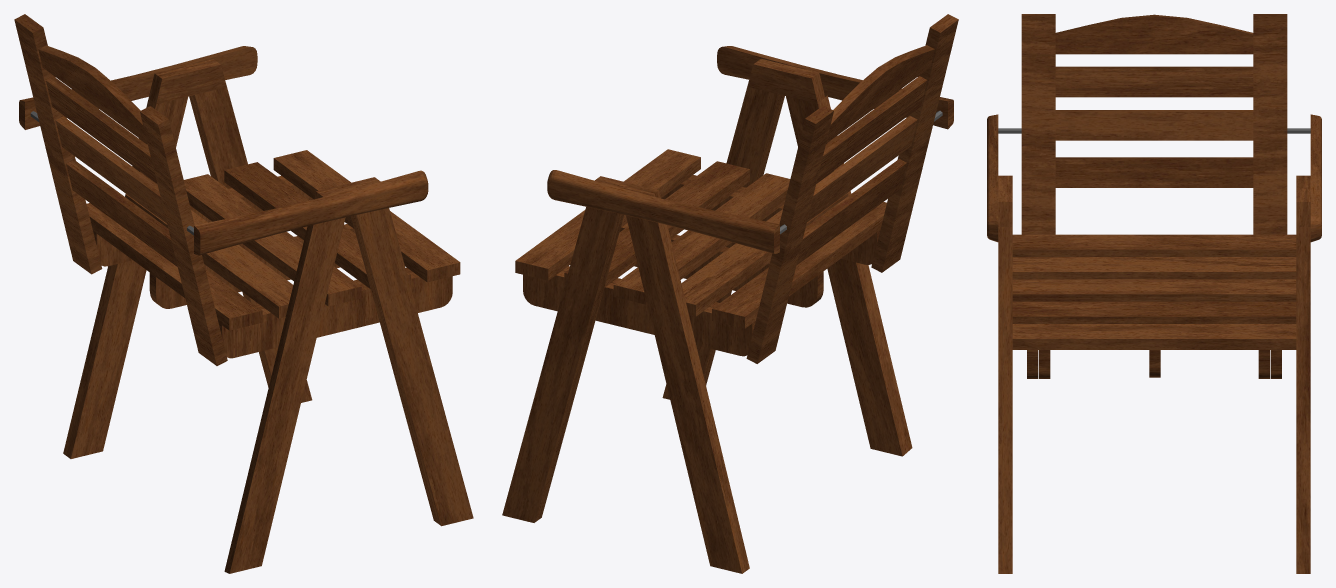
The model's file is Chair_1.fbx.
3 views of the same model, side by side, from view 1: azimuth 30°, elevation 25°; view 2: azimuth 150°, elevation 25°; view 3: azimuth 270°, elevation 25° (orthographic). The views are drawn at different scales.
Visible parts, largest first — view 1: Cube; view 2: Cube; view 3: Cube.
Boxes of the visible parts, box(x1,y1,x2,y2) form: Cube: box(14, 14, 473, 573); Cube: box(502, 14, 958, 573); Cube: box(987, 14, 1321, 573).
Bounding box in the file's own units: 55 × 80 × 57.
2 materials, 1 textured.
